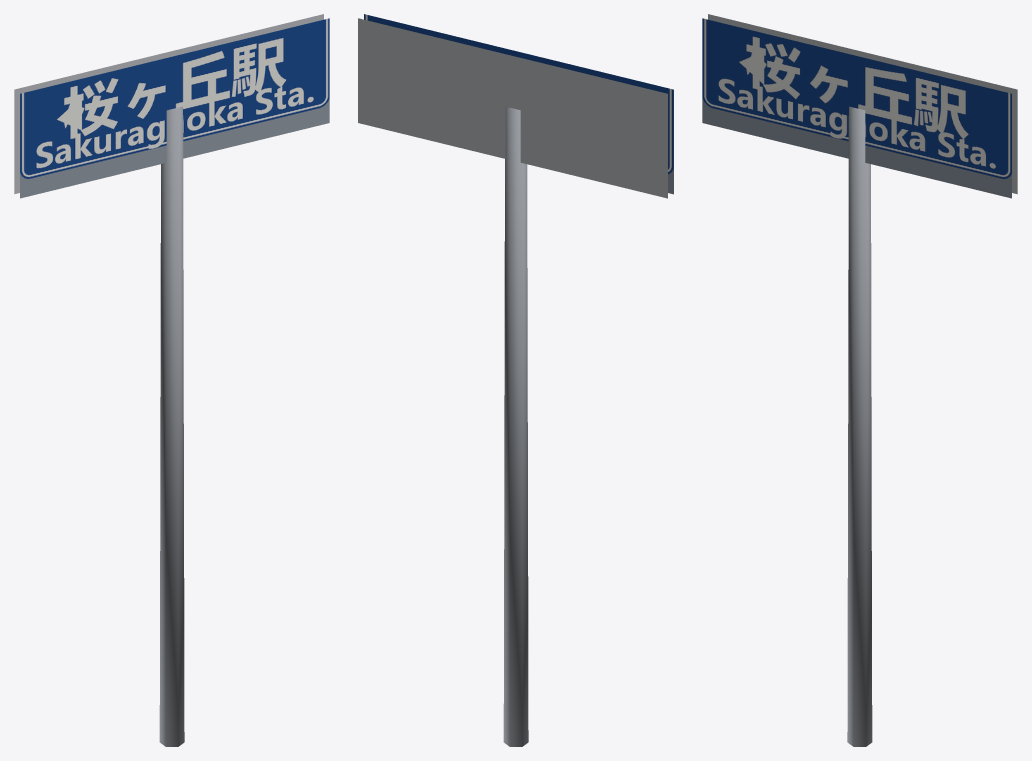
The model's file is prop-sign-blue.glb.
3 renders of one model, left to right at view 1: azimuth 30°, elevation 25°; view 2: azimuth 150°, elevation 25°; view 3: azimuth 330°, elevation 25°, orthographic.
Parts seen in each view (by area): view 1: sign-face, sign-post, sign-back; view 2: sign-back, sign-post, sign-face; view 3: sign-face, sign-post, sign-back.
Boxes of the visible parts, x1,y1,x2,y2 form: sign-face: [20, 18, 329, 198]; sign-post: [159, 106, 184, 746]; sign-back: [14, 14, 323, 194]; sign-back: [358, 18, 667, 198]; sign-post: [503, 106, 528, 746]; sign-face: [364, 14, 673, 194]; sign-face: [702, 18, 1011, 198]; sign-post: [847, 106, 872, 746]; sign-back: [708, 14, 1017, 194].
Size of the model in its own units: 1.3 by 2.76 by 0.09.
3 materials, 1 textured.
